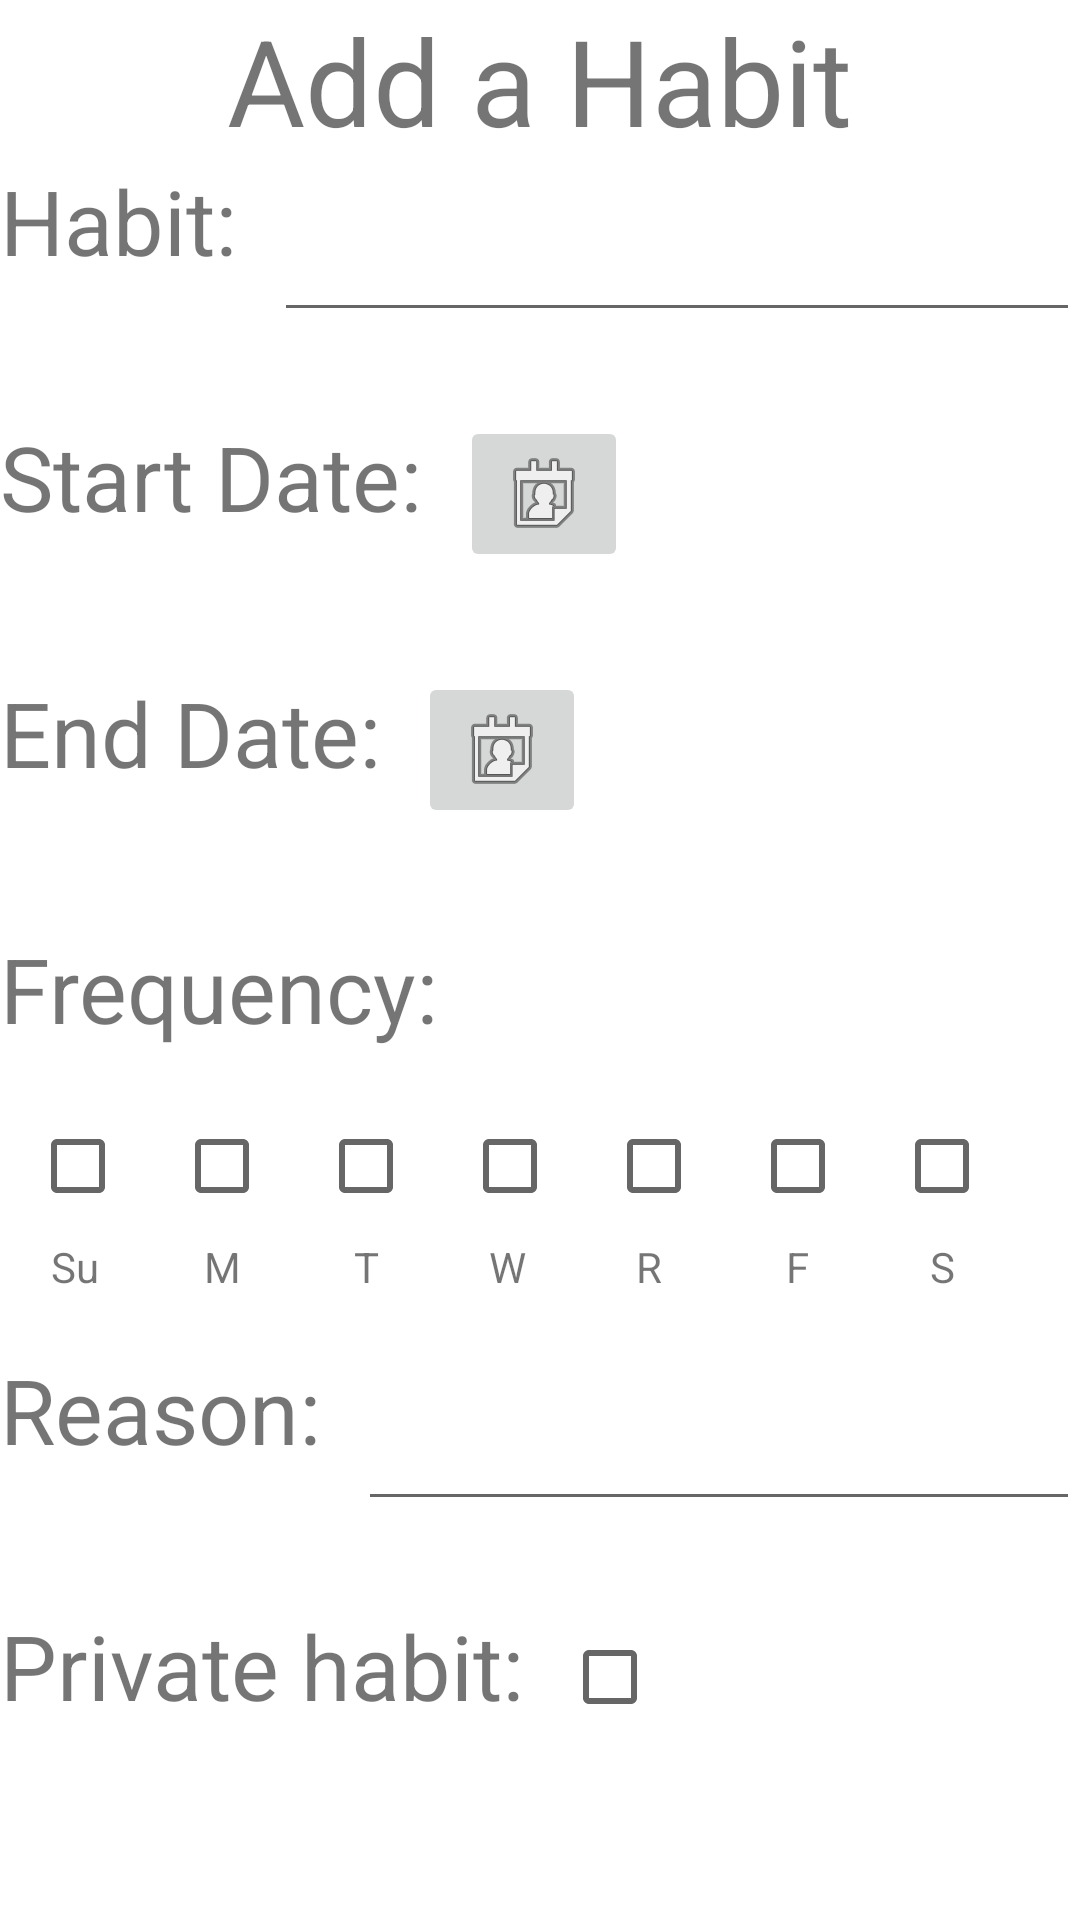

Icon click points for this 1080 × 1920 phone screenshot, format (x=x, y=y):
calendar: (x=544, y=494), (x=502, y=750)
